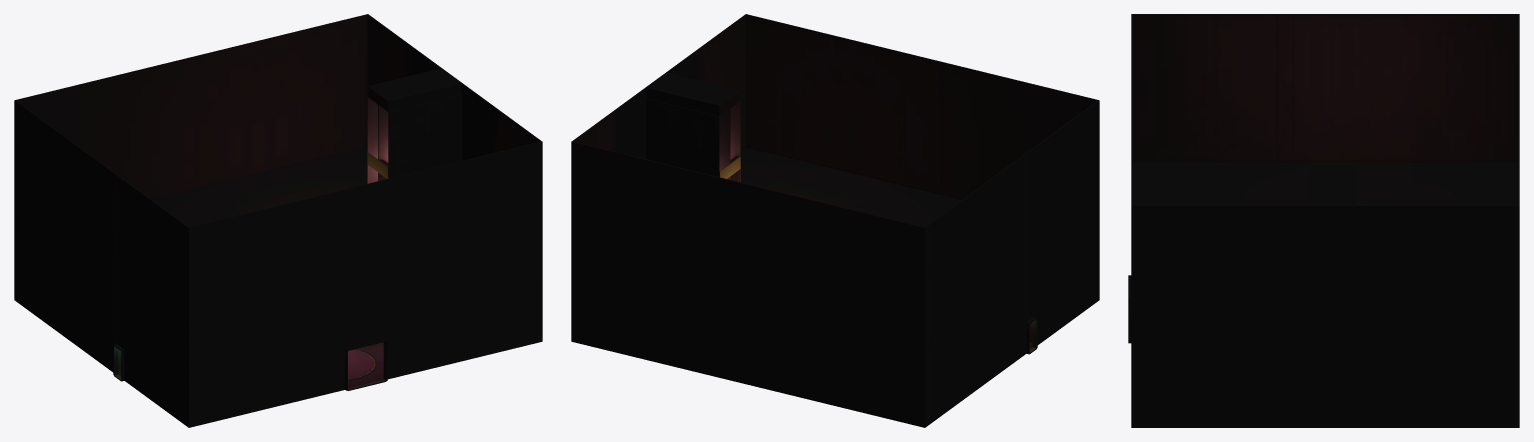
File: rouge_xl_ground.glb
3 views of the same model, side by side, from view 1: azimuth 30°, elevation 25°; view 2: azimuth 150°, elevation 25°; view 3: azimuth 270°, elevation 25° (orthographic). The views are drawn at different scales.
Visible parts, largest first — view 1: office_kopo201; view 2: office_kopo201; view 3: office_kopo201.
Part boxes in pixels (left/top/right/bottom): office_kopo201: left=14, top=14, right=542, bottom=427; office_kopo201: left=571, top=14, right=1099, bottom=427; office_kopo201: left=1128, top=14, right=1519, bottom=427.
Bounding box in the file's own units: 27.79 × 14.97 × 23.79.
1 material, 1 textured.
